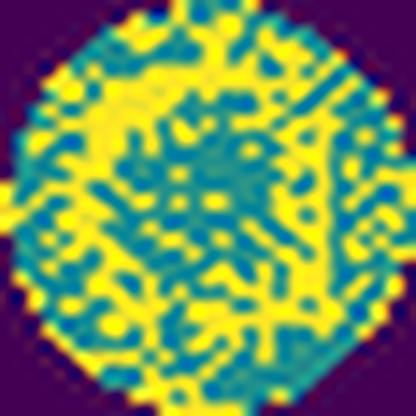Donut: (58, 50, 349, 351)
